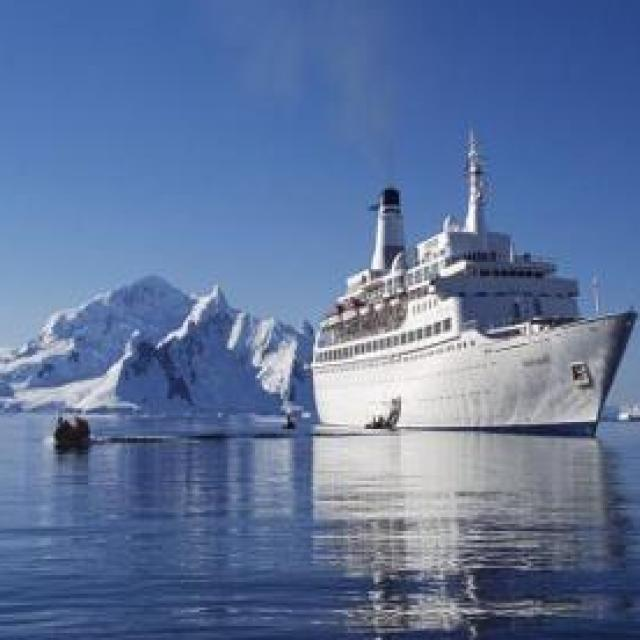passenger ship: (308, 175, 637, 432)
